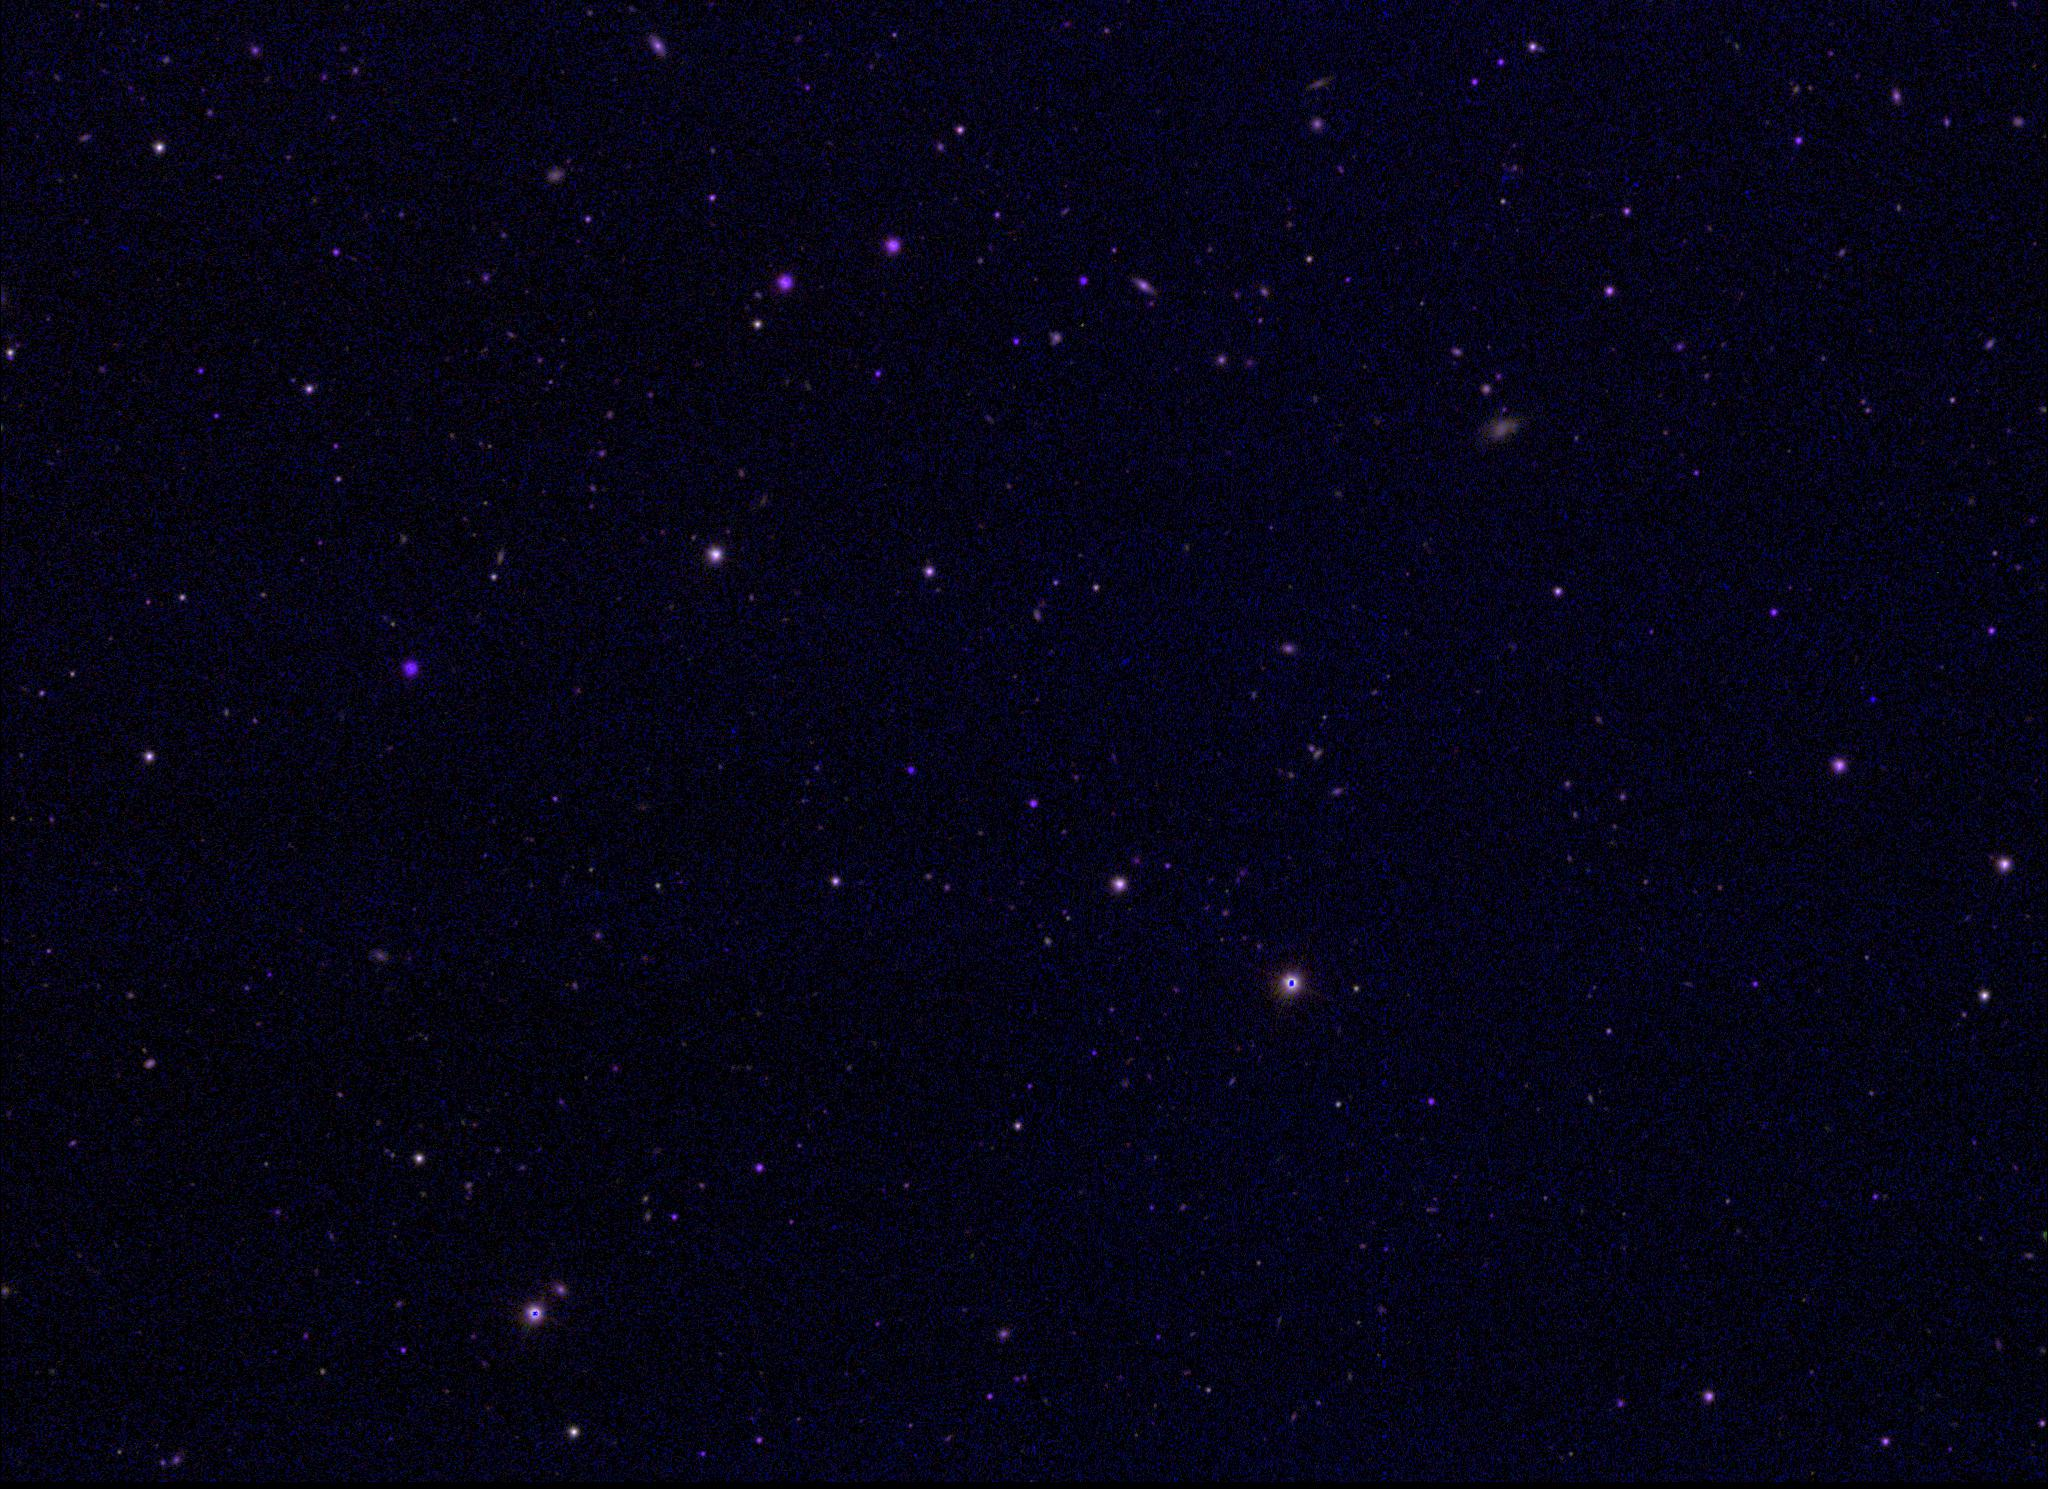L: (1867, 692, 1879, 706)
